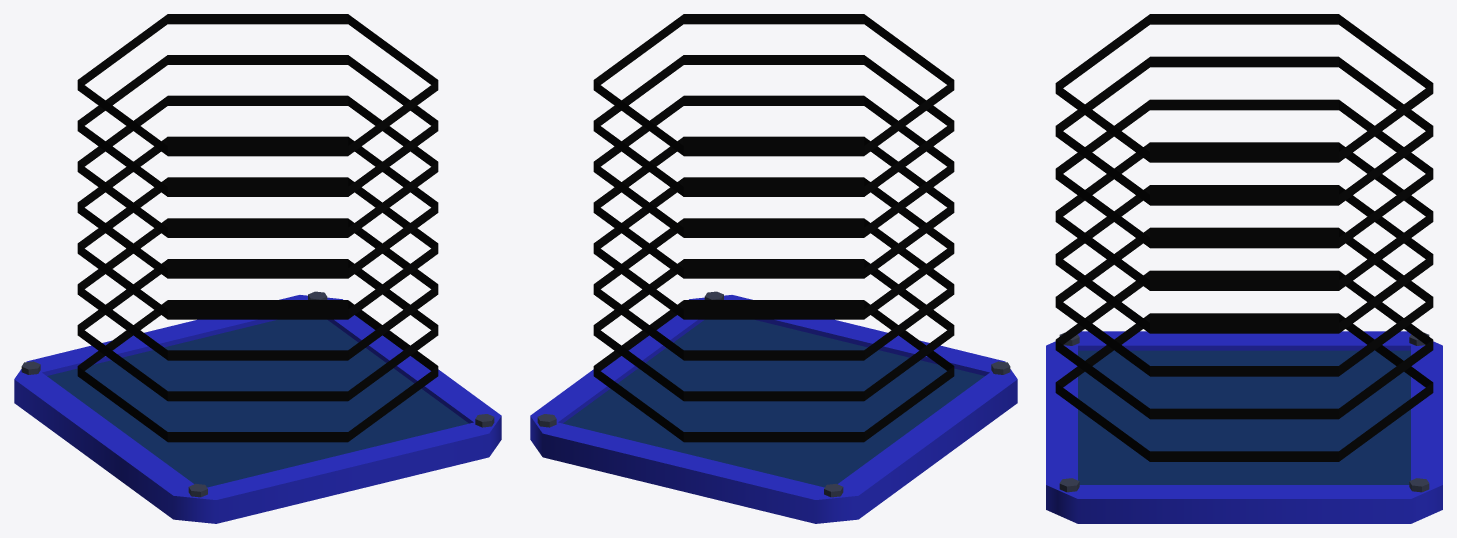
File: cpポイント.fbx
3 renders of one model, left to right at view 1: azimuth 30°, elevation 25°; view 2: azimuth 150°, elevation 25°; view 3: azimuth 270°, elevation 25°, orthographic. The views are drawn at different scales.
Parts seen in each view (by area): view 1: cp; view 2: cp; view 3: cp.
Part boxes in pixels (x1,y1,x2,y2): cp: (14,14,501,523); cp: (530,14,1017,523); cp: (1046,14,1442,523).
Bounding box in the file's own units: 200 × 199 × 200.
